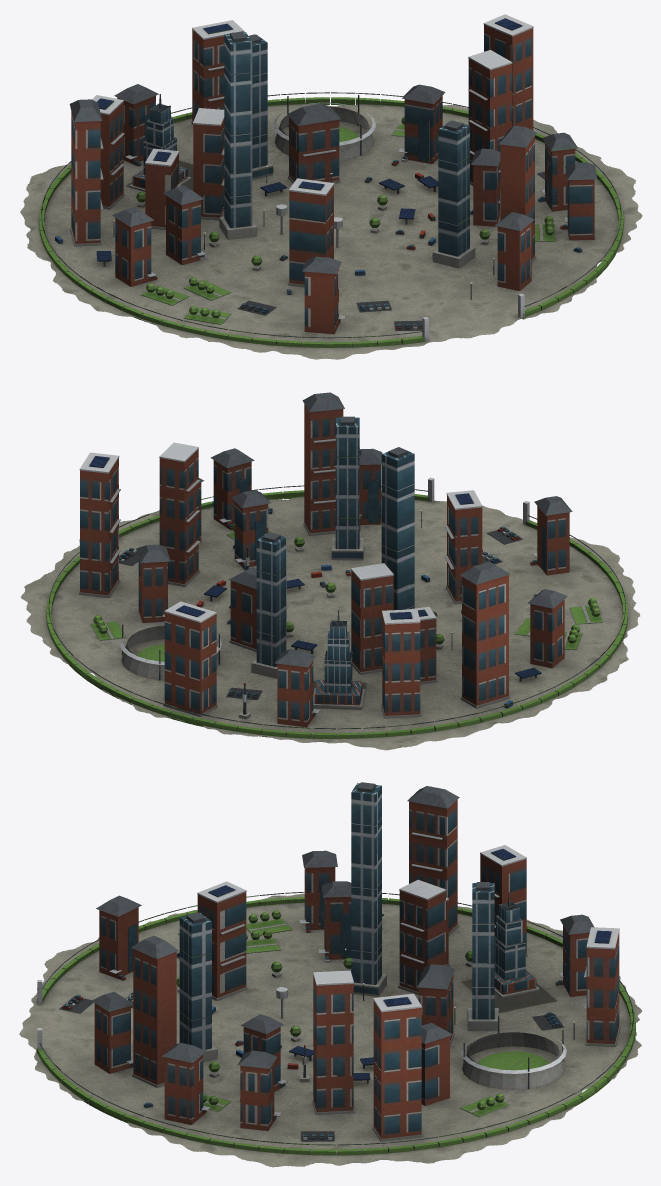
The model's file is information-town-big-a-europe.glb.
The picture shows the model from 3 angles, top to bottom: view 1: azimuth 30°, elevation 25°; view 2: azimuth 150°, elevation 25°; view 3: azimuth 270°, elevation 25°; orthographic projection. The views are drawn at different scales.
Parts seen in each view (by area): view 1: LOD0; view 2: LOD0; view 3: LOD0.
Boxes of the visible parts, <box> form: LOD0: <box>20,14,642,359</box>; LOD0: <box>20,392,640,750</box>; LOD0: <box>19,782,641,1167</box>.
Size of what is drawn, in the model's own units: 8 by 2.72 by 7.61.
Materials: 3 (3 with a texture image).
